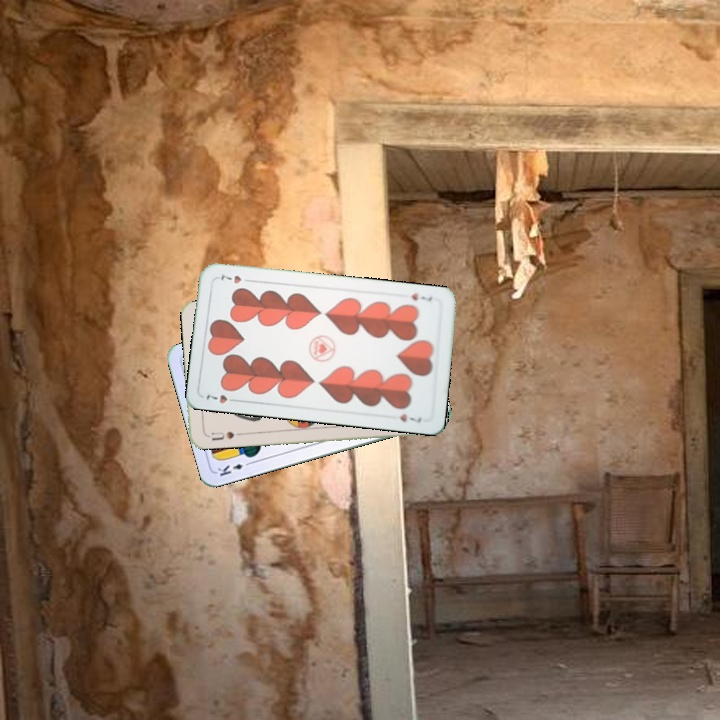EK: (213, 458, 254, 479)
H7: (202, 390, 241, 406), (407, 289, 435, 304)
SU: (203, 427, 243, 443)
